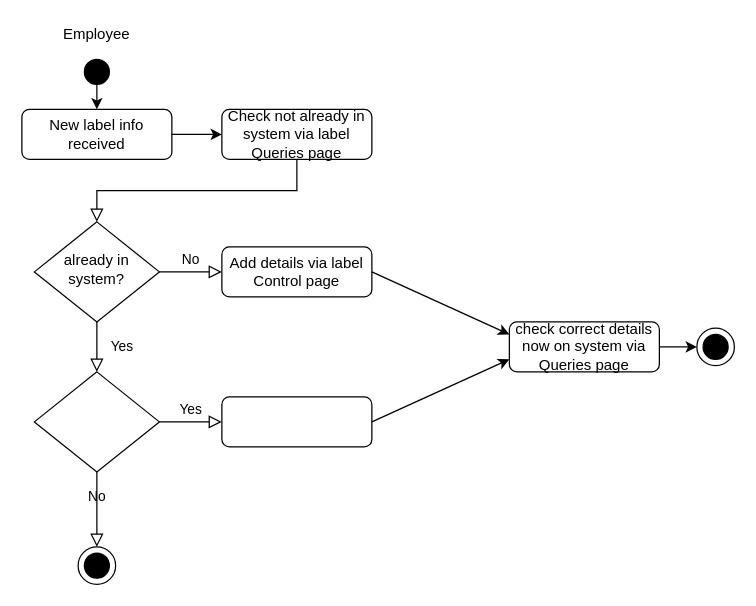
This 756x606 diagram has some shape labels left out. Each missing label, with the centre of its shape:
"any details to update?" goes at [96,421].
"edit details via label Control page" goes at [296,421].
